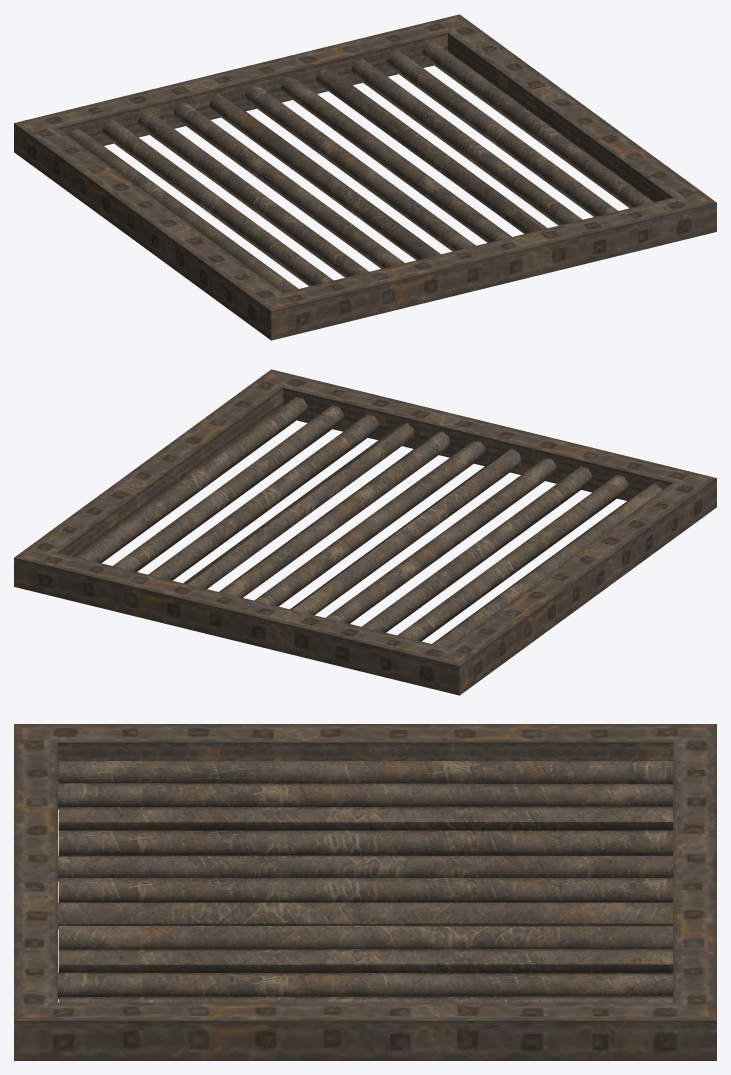
3 views of the same model, one above another, from view 1: azimuth 30°, elevation 25°; view 2: azimuth 150°, elevation 25°; view 3: azimuth 270°, elevation 25° (orthographic). The views are drawn at different scales.
Parts seen in each view (by area): view 1: SM_FuzanArena_FloorGrate_8x8_01_LOD0; view 2: SM_FuzanArena_FloorGrate_8x8_01_LOD0; view 3: SM_FuzanArena_FloorGrate_8x8_01_LOD0.
Boxes of the visible parts, <box> form: SM_FuzanArena_FloorGrate_8x8_01_LOD0: <box>14,14,716,340</box>; SM_FuzanArena_FloorGrate_8x8_01_LOD0: <box>14,369,716,695</box>; SM_FuzanArena_FloorGrate_8x8_01_LOD0: <box>14,724,716,1060</box>.
Bounding box in the file's own units: 4 × 0.25 × 4.
Materials: 2 (2 with a texture image).
